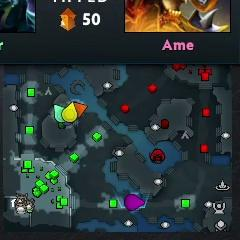p2: (53, 104, 67, 123)
p3: (125, 194, 145, 211)
p4: (61, 101, 77, 122)
p5: (75, 102, 87, 116)
